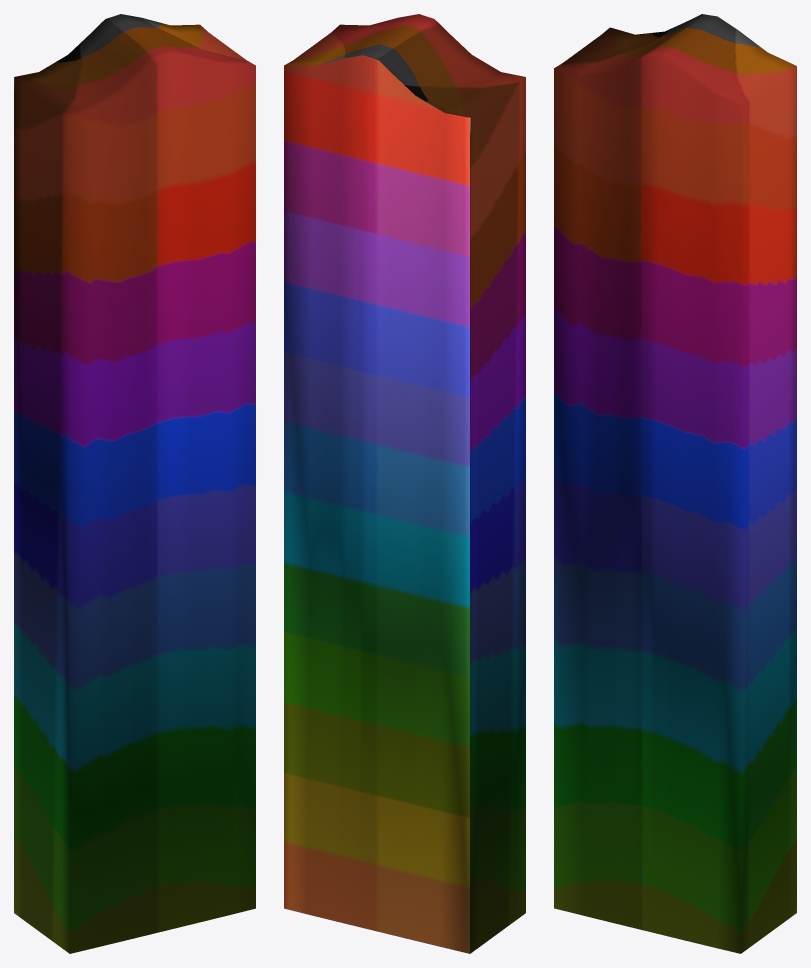
The model's file is Western_Platform_DeformMesh3.fbx.
The picture shows the model from 3 angles, left to right: view 1: azimuth 30°, elevation 25°; view 2: azimuth 150°, elevation 25°; view 3: azimuth 330°, elevation 25°; orthographic projection.
Visible parts, largest first — view 1: Cube.006; view 2: Cube.006; view 3: Cube.006.
Boxes of the visible parts, x1=… form: Cube.006: x1=14, y1=14, x2=255, y2=953; Cube.006: x1=284, y1=14, x2=525, y2=953; Cube.006: x1=554, y1=14, x2=796, y2=953.
Bounding box in the file's own units: 1078 × 4832 × 564.
Materials: 1 (1 with a texture image).
